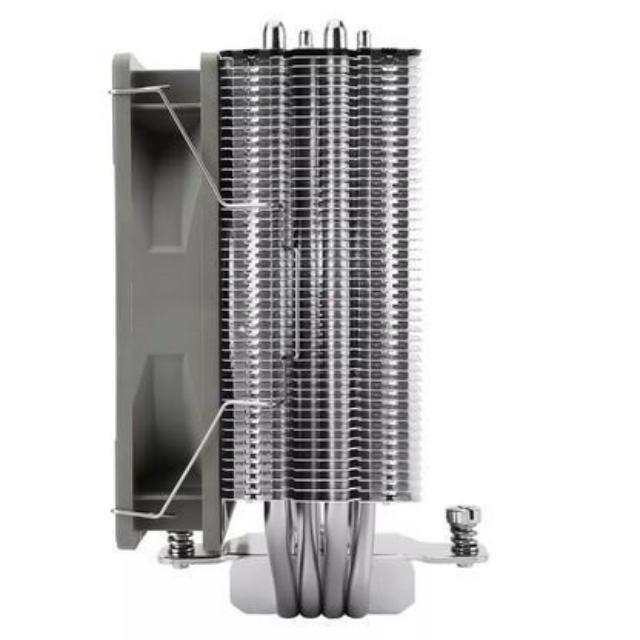CPU_Fan: (86, 8, 492, 624)
